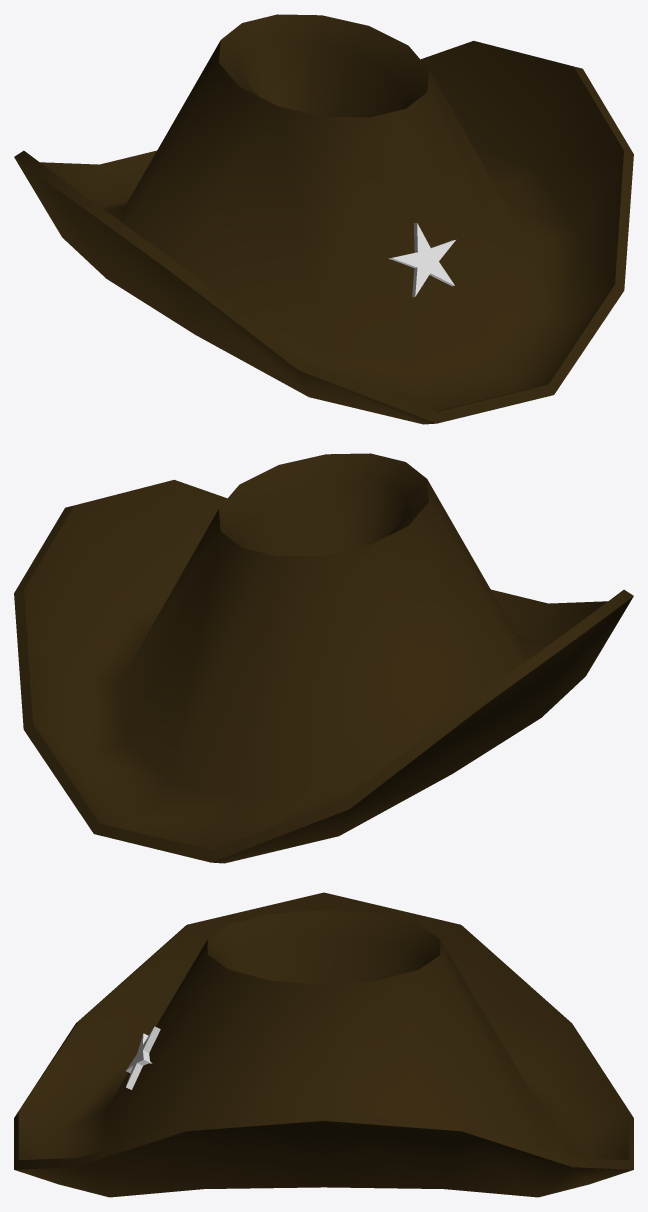
The model's file is sombreroVAQUERO.fbx.
3 views of the same model, one above another, from view 1: azimuth 30°, elevation 25°; view 2: azimuth 150°, elevation 25°; view 3: azimuth 270°, elevation 25° (orthographic). The views are drawn at different scales.
Parts seen in each view (by area): view 1: Cylinder; view 2: Cylinder; view 3: Cylinder.
Part boxes in pixels (x1,y1,x2,y2): Cylinder: [14, 14, 633, 424]; Cylinder: [14, 453, 633, 863]; Cylinder: [14, 892, 633, 1197].
Bounding box in the file's own units: 271 × 120 × 311.
